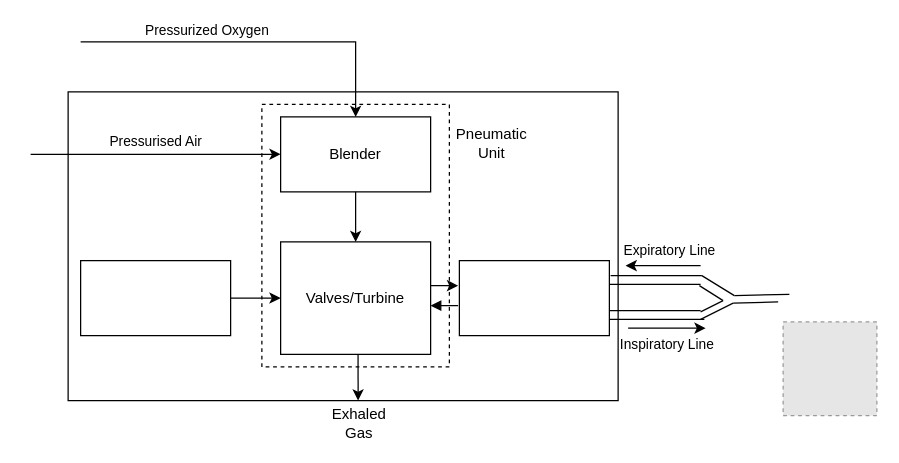
Some shapes in this 899 by 463 pixel diagram are drawn without their labels. Grey dashed boxes stand in for pictures. Each missing label, with the centre of its shape:
"Control Unit" goes at [155,297].
"Sensors" goes at [533,297].
